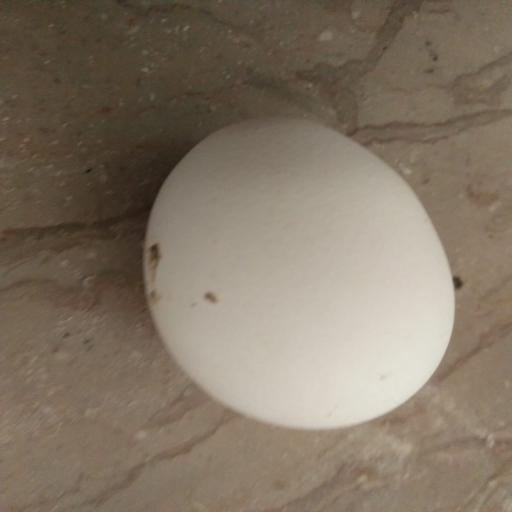telur: (143, 118, 454, 430)
